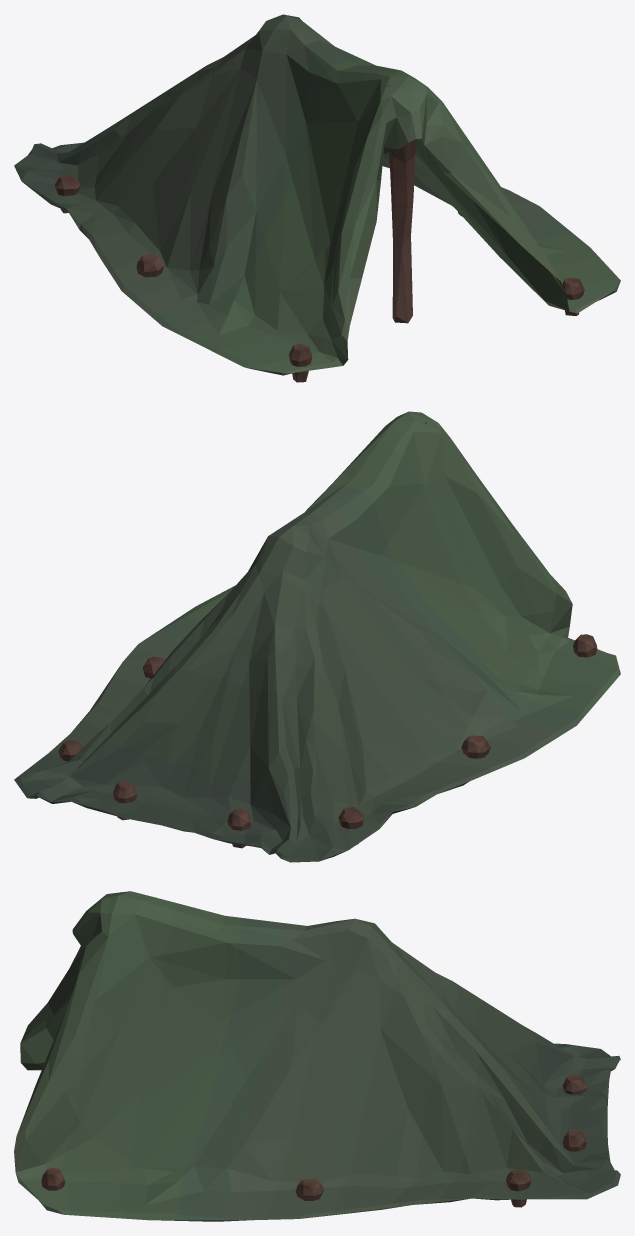
The model's file is Tent.fbx.
The picture shows the model from 3 angles, top to bottom: view 1: azimuth 30°, elevation 25°; view 2: azimuth 150°, elevation 25°; view 3: azimuth 270°, elevation 25°; orthographic projection.
Parts seen in each view (by area): view 1: Tent; view 2: Tent; view 3: Tent.
Boxes of the visible parts, box(x1,y1,x2,y2) form: Tent: box(14, 14, 620, 382); Tent: box(14, 411, 620, 862); Tent: box(14, 891, 620, 1221).
Bounding box in the file's own units: 957 × 555 × 1244.
